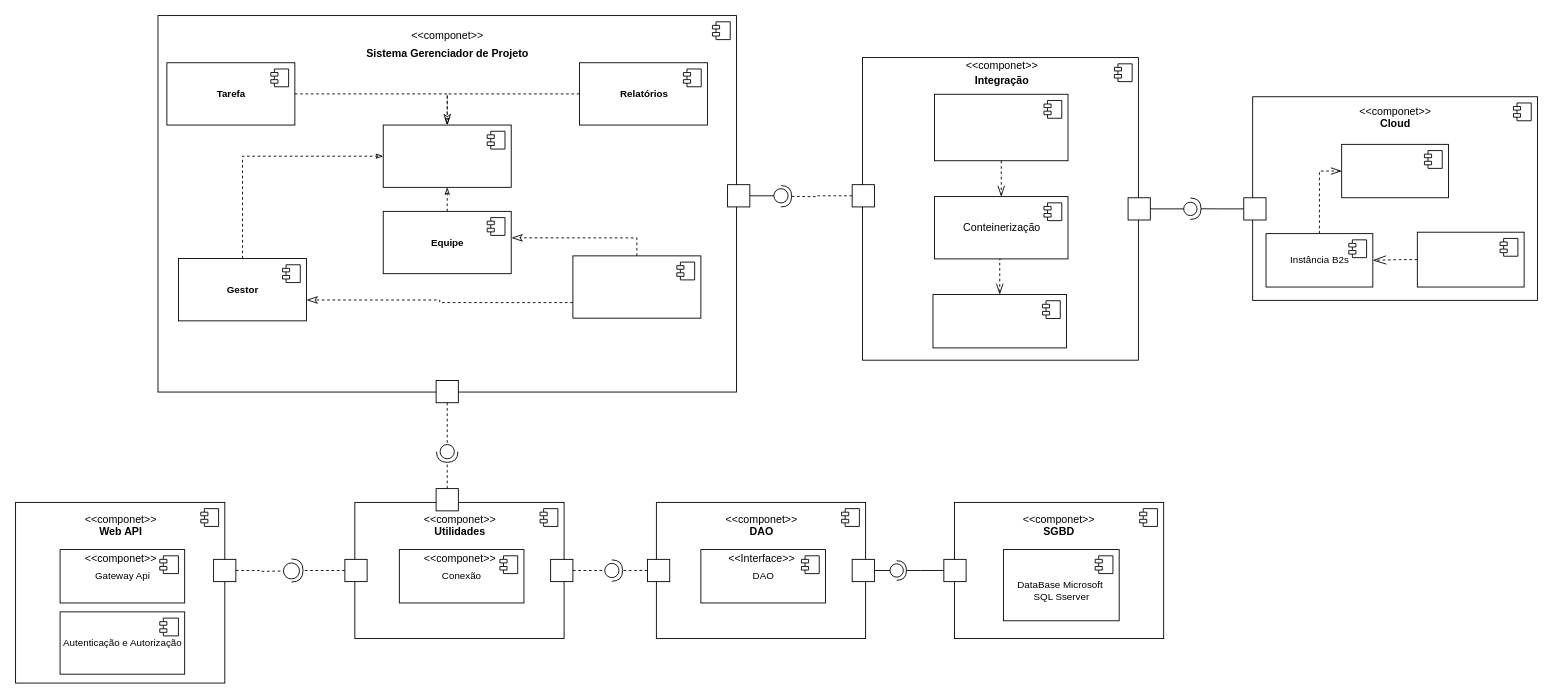
Image size: 1553x699. Some labels were removed from this diagram. The shapes that lost their labels are listed below. From the top down, each one's centre as x and y in pixels, then its label:
pixel 1001 127: Dependencias da aplicação
pixel 446 155: Projeto
pixel 1394 170: Azure Cloud
pixel 1470 259: Azure Elastic Cloud
pixel 636 286: Membro
pixel 999 321: Deploy da aplicação
